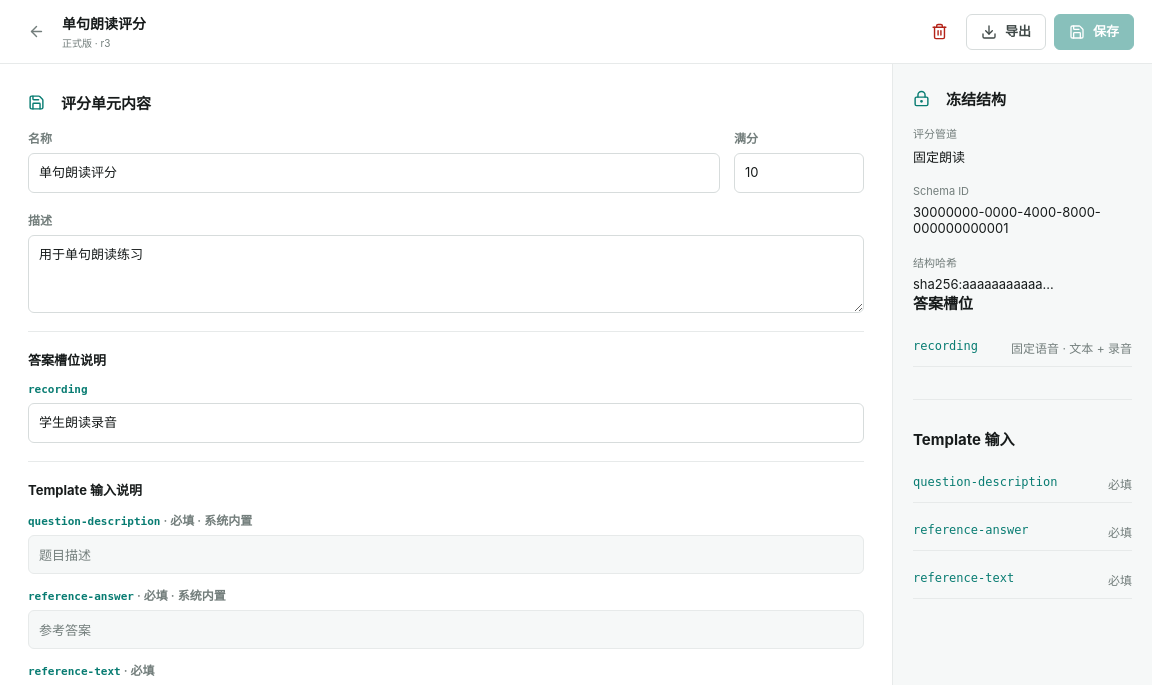
Scenario: Schema pages › exports the saved formal Schema and blocks export while data is dirty
The width and height of the screenshot is (1152, 685).
Click the button "导出" at (1006, 32), box [966,14,1046,50]
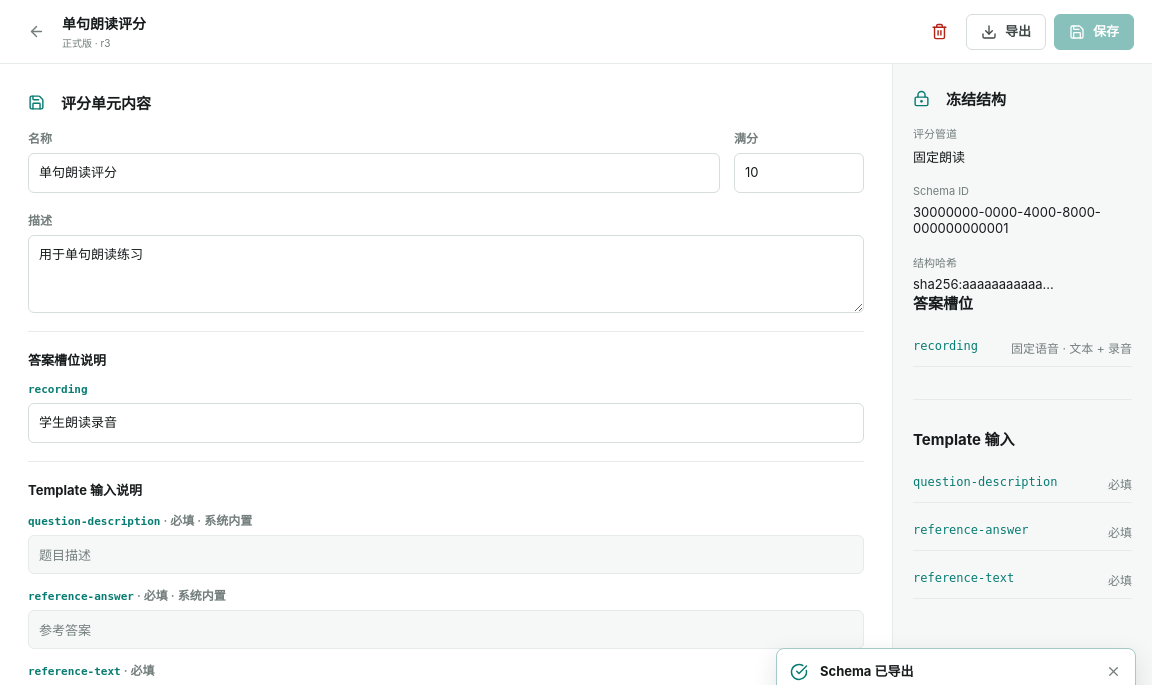
Check: the text "Schema 已导出" is shown, box [820,663,914,679]
Replace the text in the number field labelled "满分" with "15" at (799, 173), box [734,153,864,192]
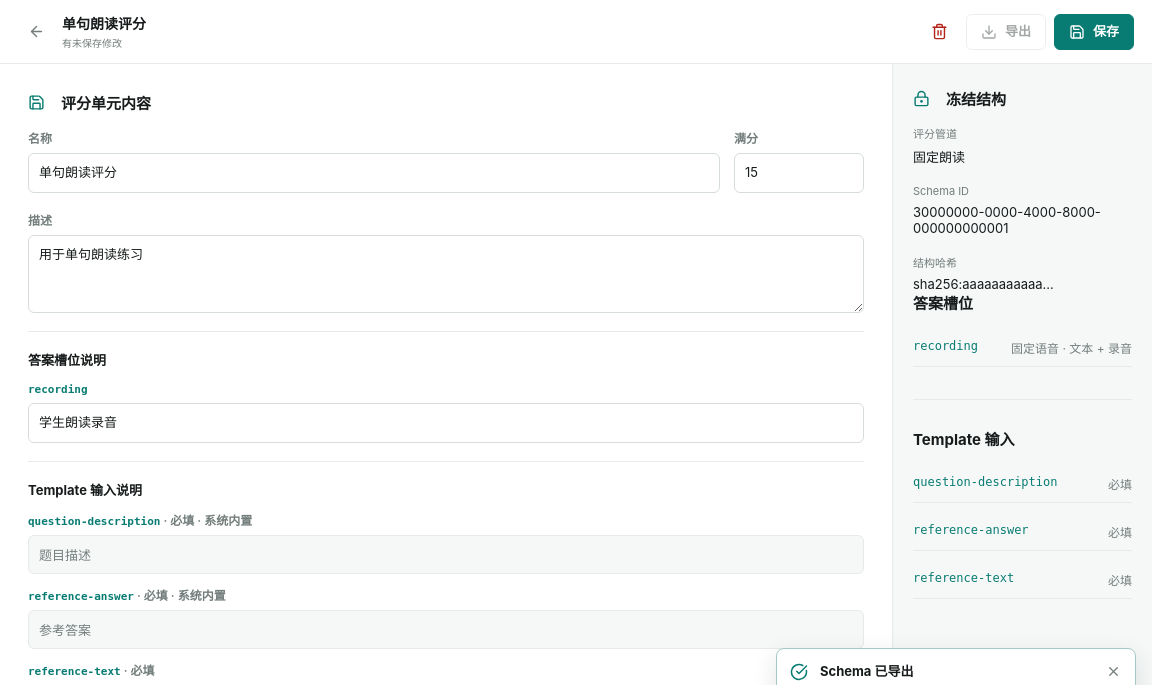
Check: the button "导出" is disabled, box [966,14,1046,50]
